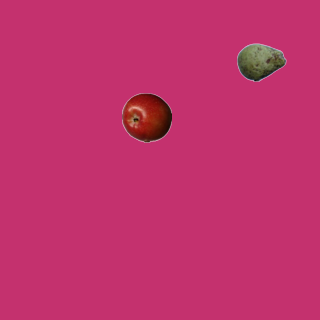Apple Braeburn: (121, 92, 171, 142)
Pear Stone: (236, 37, 286, 87)
